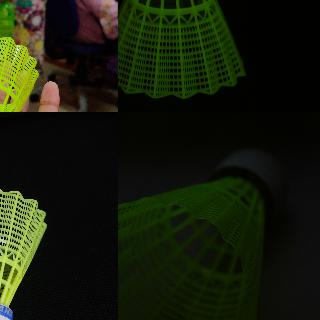shuttlecock: (118, 150, 282, 319), (118, 0, 245, 99), (0, 187, 48, 319), (0, 35, 40, 111)
